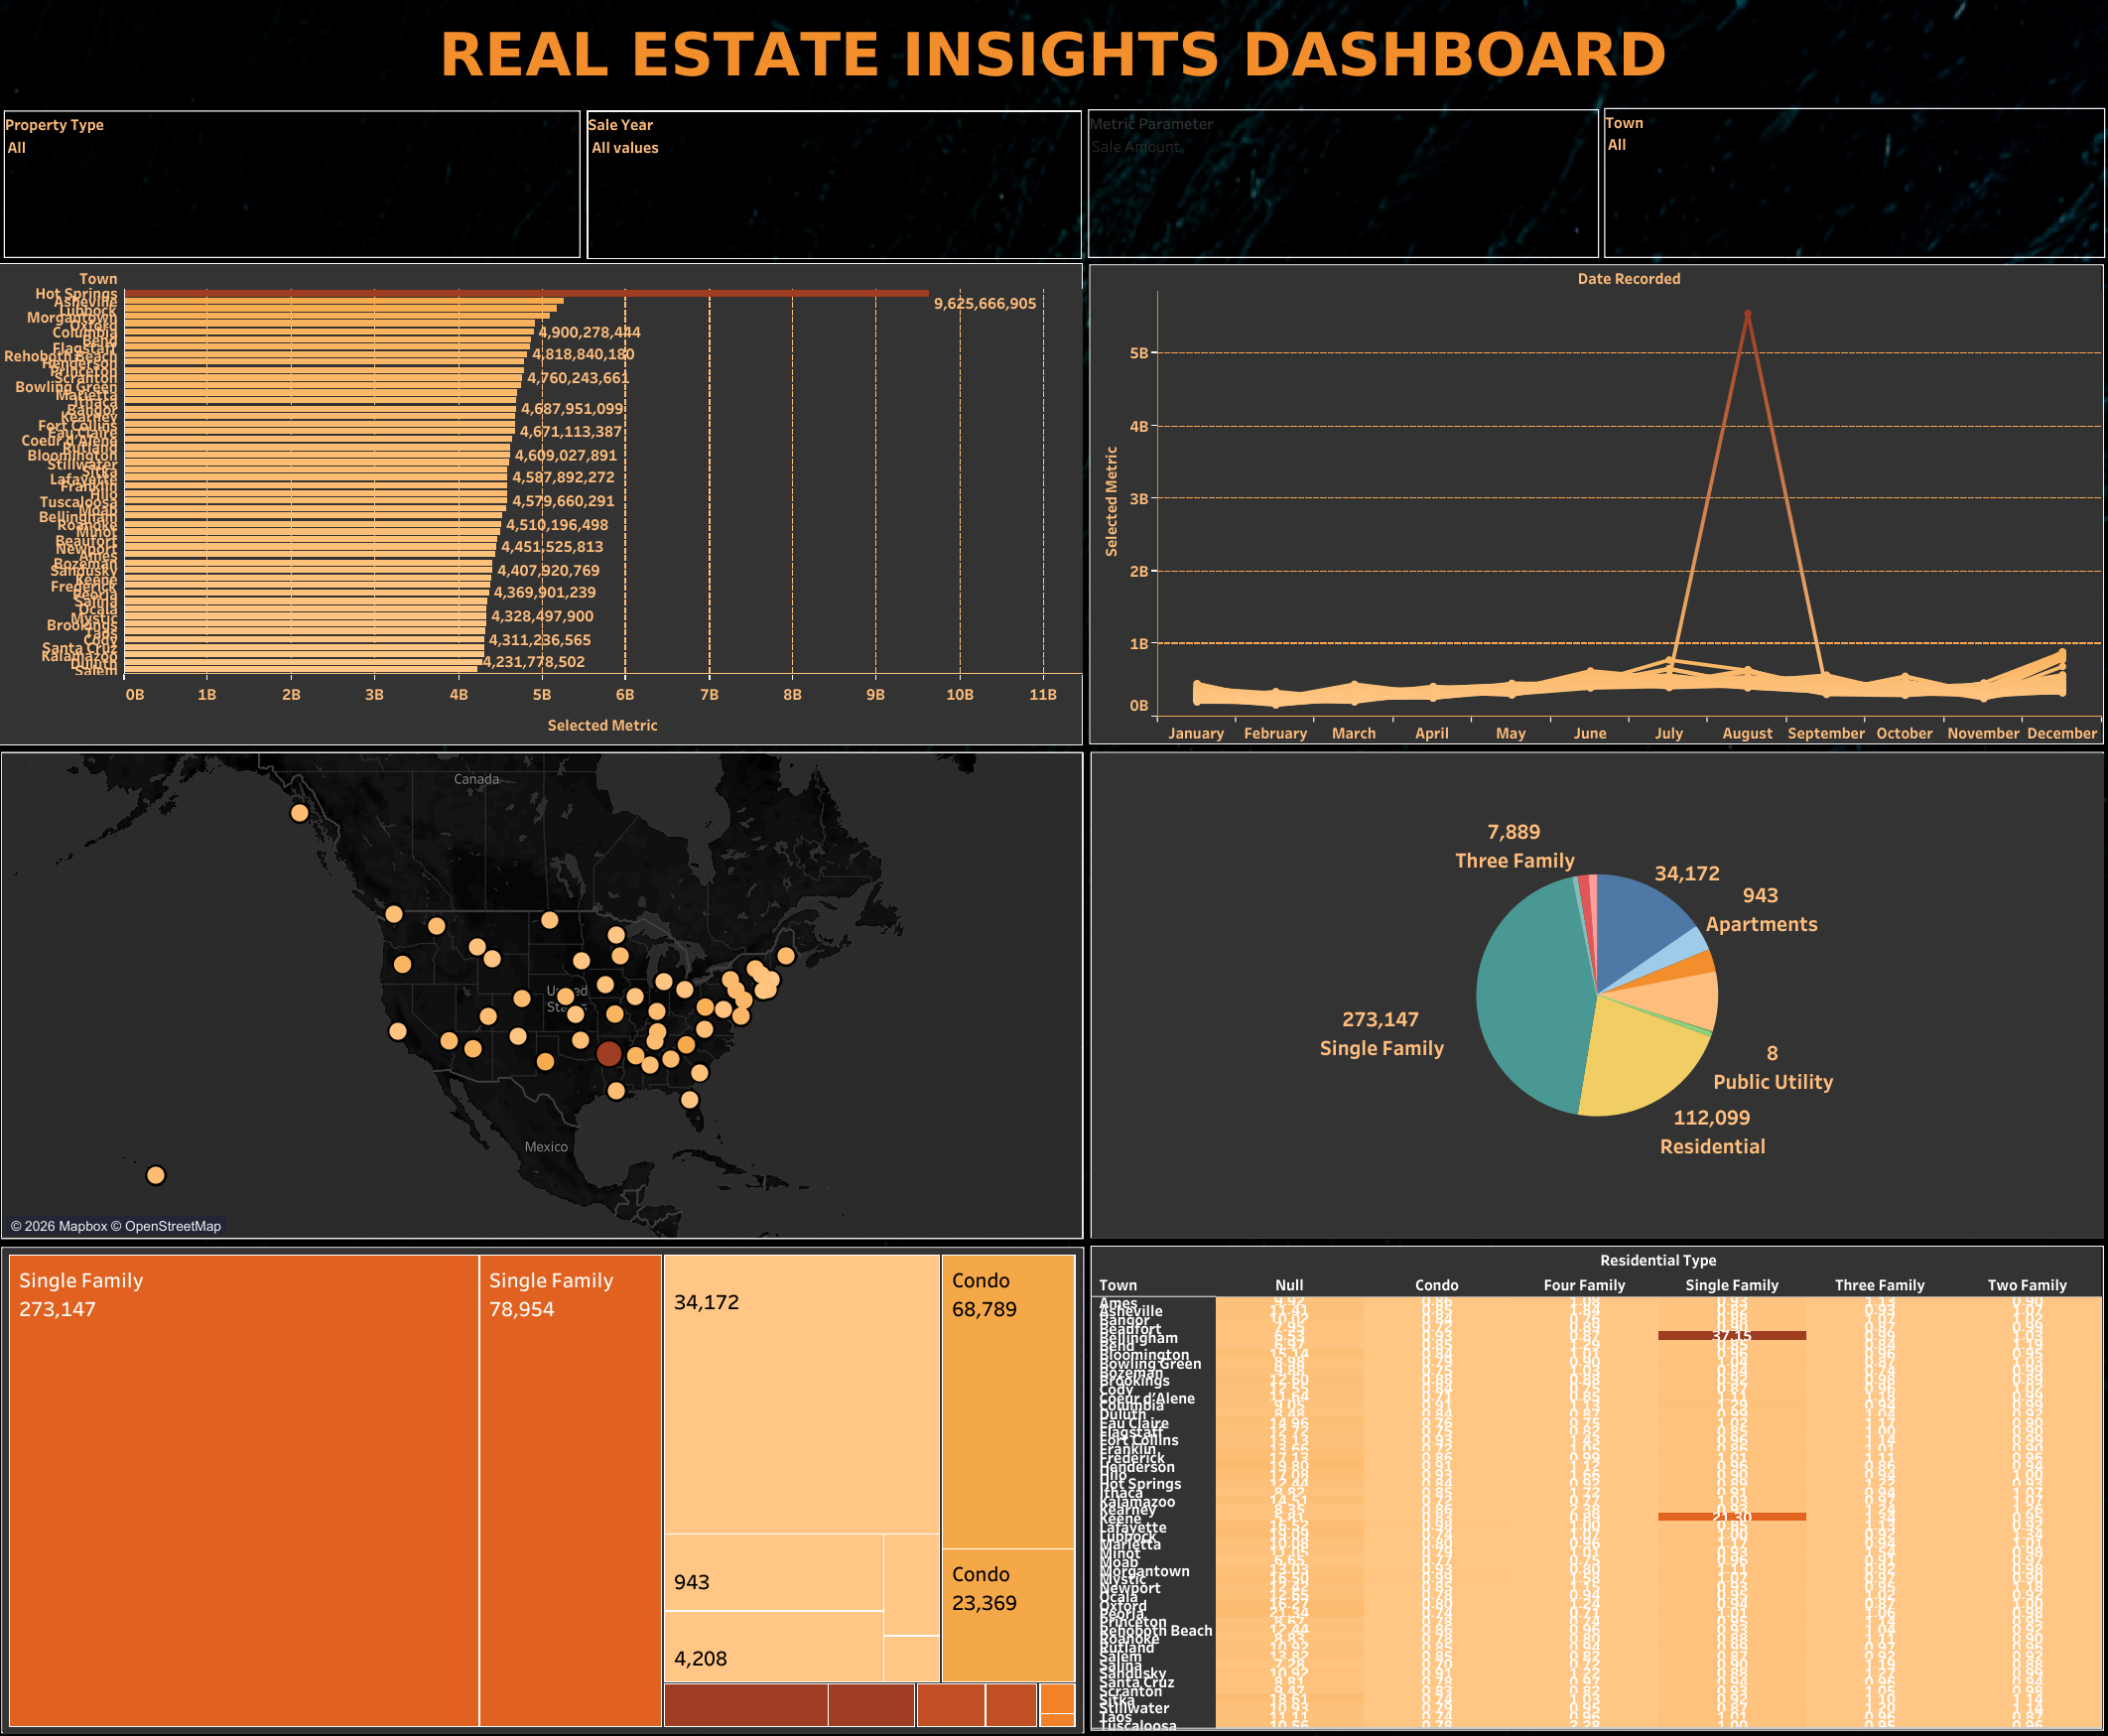

This screenshot's page, from the dashboard's own definition file:
{"tool":"tableau","page":{"name":"Dashboard 1","canvas":[1700,1400],"ordinal":0},"visuals":[{"type":"image","param":"Image/Presentation1 (1).png","box":[0,0,1700,1400]},{"type":"text","box":[2,3,1694,82]},{"type":"filter","title":"SALES BY TOWN","param":"[federated.1xzpcu617joxu41cuj9wh09el4i0].[none:Town:nk]","box":[1293,87,404,121]},{"type":"parameter","param":"[Parameters].[Parameter 0650945066106882]","box":[877,88,412,120]},{"type":"filter","title":"SALES BY TOWN","param":"[federated.1xzpcu617joxu41cuj9wh09el4i0].[none:Property Type:nk]","box":[3,89,465,119]},{"type":"filter","title":"SALES BY TOWN","param":"[federated.1xzpcu617joxu41cuj9wh09el4i0].[none:Calculation_0650945051357184:qk]","box":[473,89,399,120]},{"type":"worksheet","title":"SALES TREND BY MONTH","mark":"Line","rows":["Calculation_0650945068339207"],"cols":["Date Recorded"],"box":[878,213,818,387]},{"type":"worksheet","title":"SALES MAP","mark":"Automatic","box":[1,606,873,393]},{"type":"worksheet","title":"PROPERTY TYPE DISTRIBUTION","mark":"Pie","box":[879,606,817,392]},{"type":"worksheet","title":"SALES RATIO HEATMAP","mark":"Square","rows":["Town"],"cols":["Residential Type"],"box":[879,1004,817,391]},{"type":"worksheet","title":"RESIDENTIAL TYPE TREE MAP","mark":"Automatic","box":[1,1005,873,392]}]}

Visuals, with their boxes in screenshot pixels (x1, y1, x2, y2), scaled from the page's 1700x1400 canvas onto the 2108x1736 screenshot:
image: <box>0,0,2107,1735</box>
text: <box>2,4,2103,105</box>
"SALES BY TOWN" filter: <box>1603,108,2104,258</box>
parameter: <box>1088,109,1598,258</box>
"SALES BY TOWN" filter: <box>4,110,581,258</box>
"SALES BY TOWN" filter: <box>587,110,1081,259</box>
"SALES TREND BY MONTH" worksheet (Line marks): <box>1089,264,2103,744</box>
"SALES MAP" worksheet: <box>1,751,1084,1239</box>
"PROPERTY TYPE DISTRIBUTION" worksheet (Pie marks): <box>1090,751,2103,1238</box>
"SALES RATIO HEATMAP" worksheet (Square marks): <box>1090,1245,2103,1730</box>
"RESIDENTIAL TYPE TREE MAP" worksheet: <box>1,1247,1084,1732</box>
